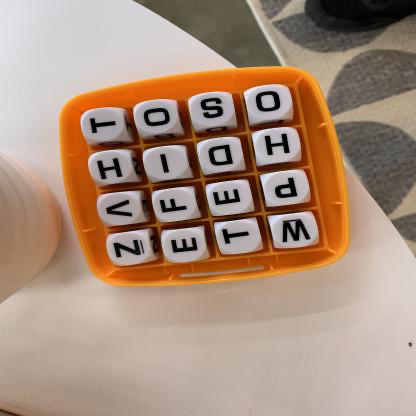d: (200, 140, 243, 173)
e: (209, 182, 254, 216), (163, 230, 207, 263)
f: (153, 189, 199, 222)
h: (256, 130, 302, 164), (90, 151, 133, 184)
i: (145, 147, 190, 181)
o: (247, 86, 293, 120), (134, 101, 178, 135)
p: (264, 173, 310, 206)
s: (190, 93, 236, 127)
t: (217, 221, 262, 255), (82, 108, 126, 142)
v: (99, 193, 142, 226)
w: (273, 214, 319, 249)
z: (109, 233, 153, 266)
